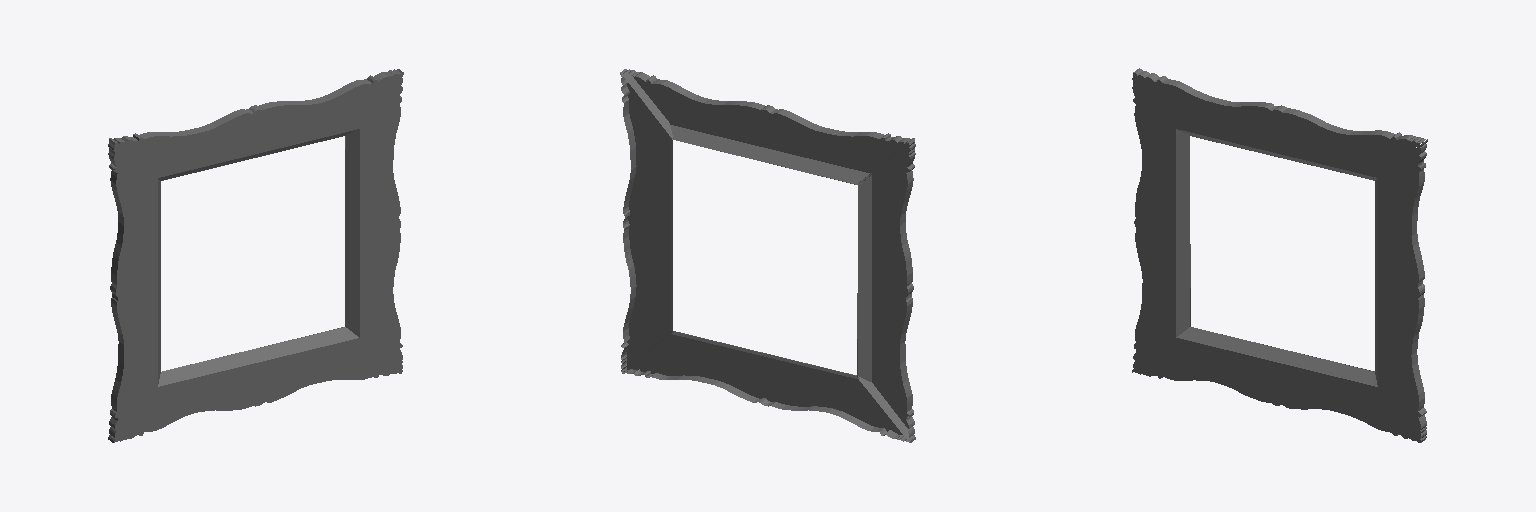
Rendered from frame.obj.
3 renders of one model, left to right at view 1: azimuth 30°, elevation 25°; view 2: azimuth 150°, elevation 25°; view 3: azimuth 330°, elevation 25°, orthographic.
Visible parts, largest first — view 1: kehys_Untitled; view 2: kehys_Untitled; view 3: kehys_Untitled.
Part boxes in pixels (x1,y1,x2,y2): kehys_Untitled: (108, 69, 403, 442); kehys_Untitled: (620, 69, 915, 442); kehys_Untitled: (1132, 68, 1427, 442).
Size of the model in its own units: 7.34 by 7.29 by 0.2541.